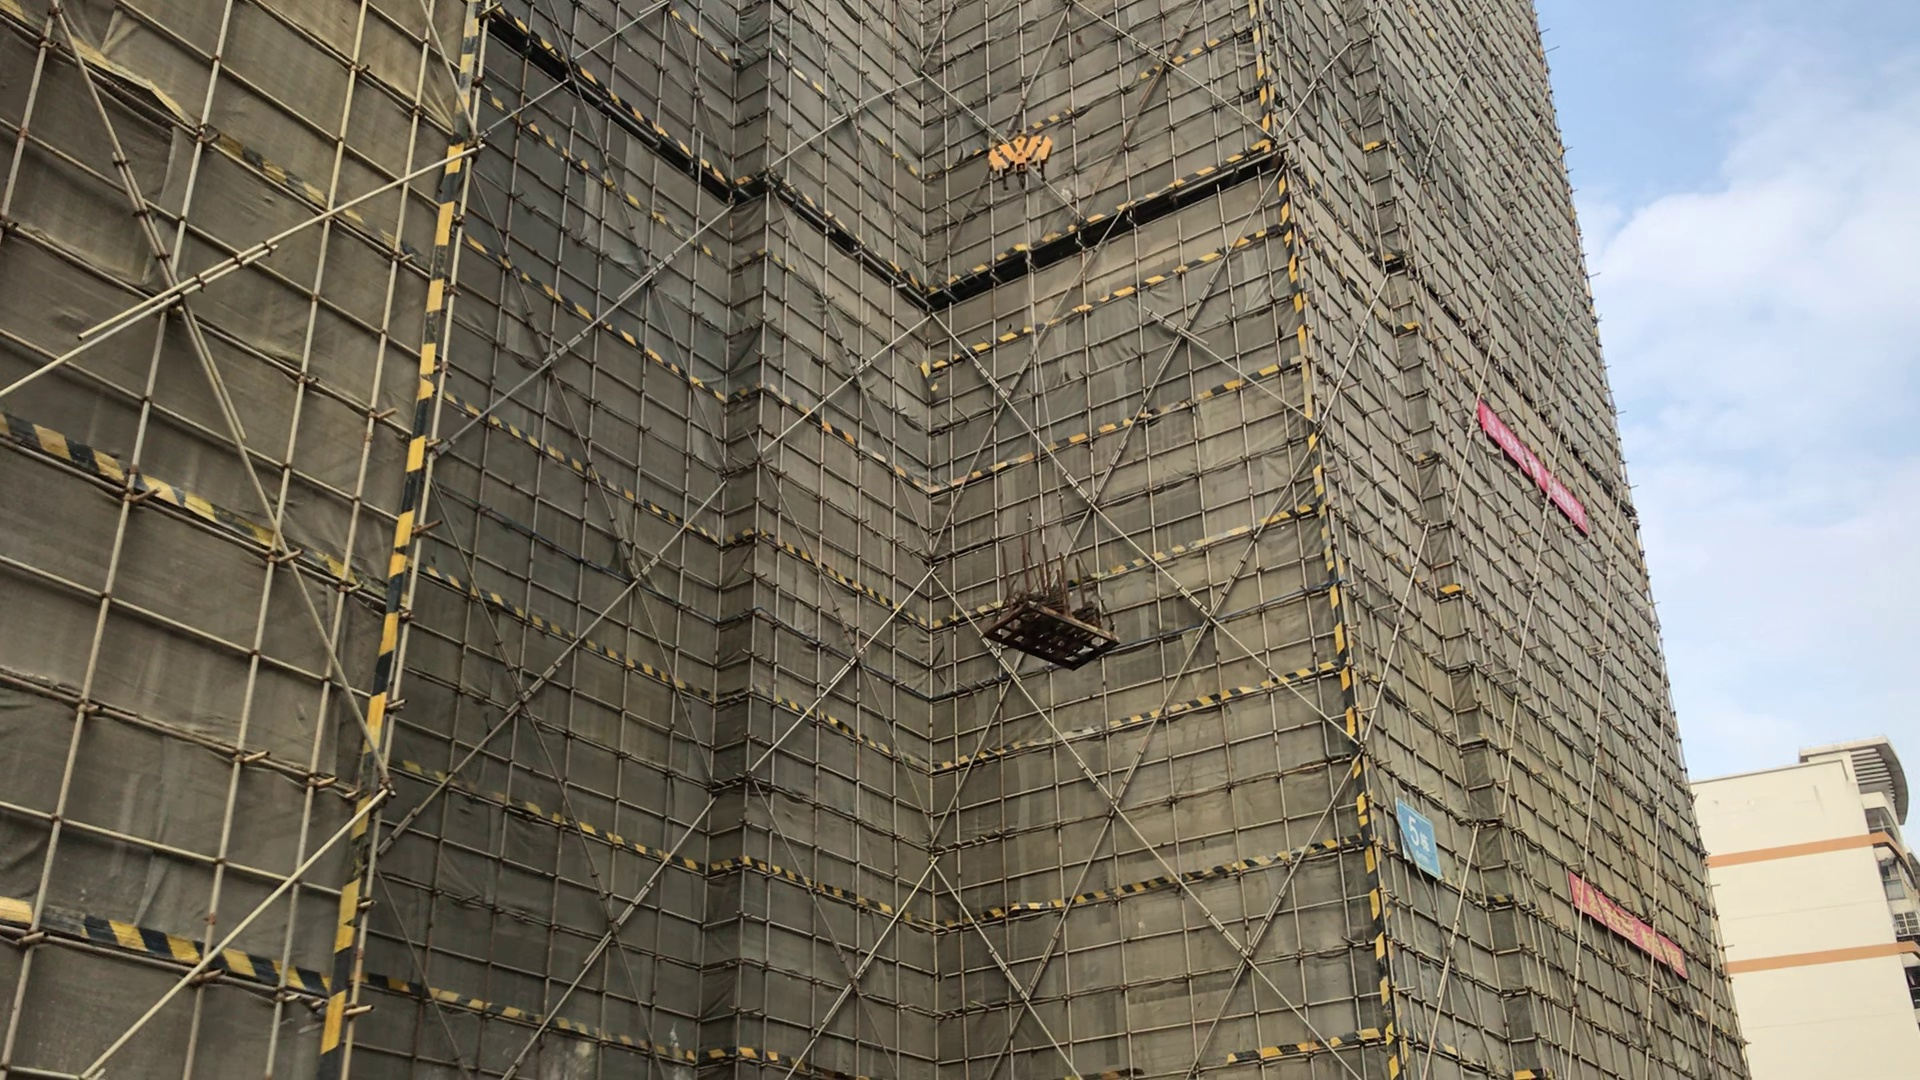hook: (980, 123, 1060, 200)
slogan: (1462, 382, 1630, 541), (1559, 862, 1714, 985), (1382, 781, 1451, 887)
